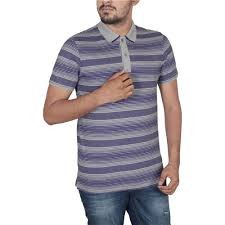C_polo shirt: (54, 23, 183, 188)
